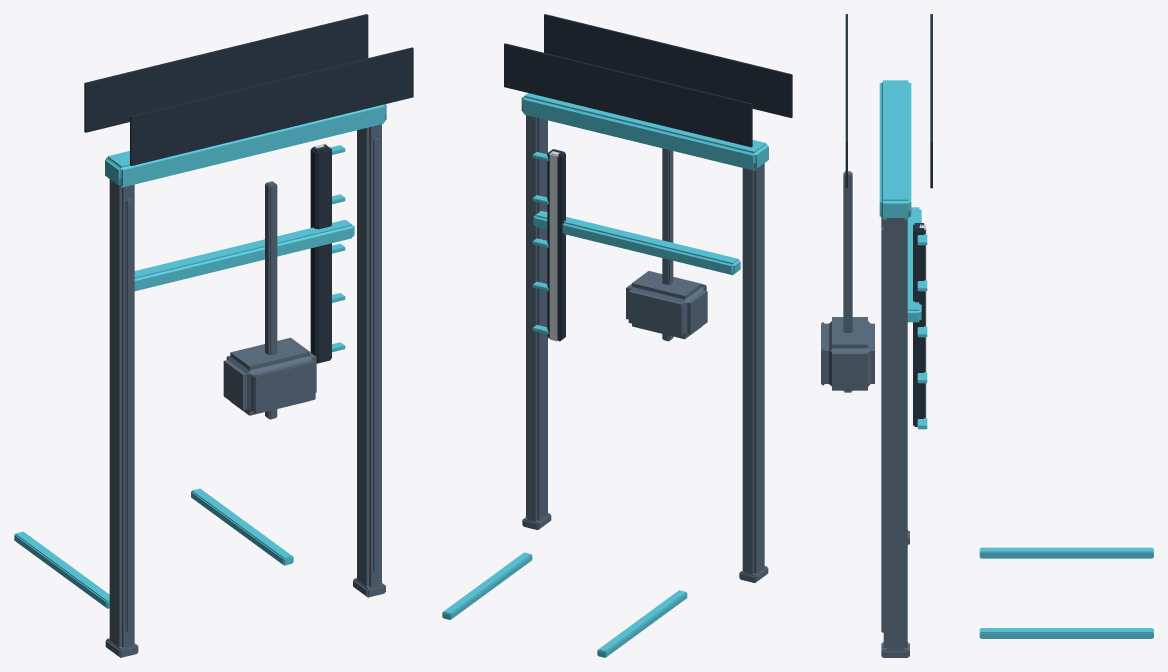
3 renders of one model, left to right at view 1: azimuth 30°, elevation 25°; view 2: azimuth 150°, elevation 25°; view 3: azimuth 270°, elevation 25°, orthographic. The views are drawn at different scales.
Visible parts, largest first — view 1: Audience progress backing, Front progress backing, Upright -0.42, Upright 0.42, RigBrace, Counterweight, GripTrack, GripHandle, CounterweightGuide, Right stance rail, Left stance rail; view 2: Front progress backing, Audience progress backing, Upright -0.42, Upright 0.42, RigBrace, Counterweight, GripHandle, GripTrack, GripRemaining, CounterweightGuide, Left stance rail, Right stance rail; view 3: Upright 0.42, RigBrace, Counterweight, GripTrack, Left stance rail, Right stance rail, CounterweightGuide, GripHandle, Audience progress backing, Front progress backing.
Part boxes in pixels (box(x1,y1,x2,y2)): Audience progress backing: box(130, 47, 413, 165); Front progress backing: box(84, 14, 368, 132); Upright -0.42: box(105, 178, 138, 657); Upright 0.42: box(353, 114, 385, 597); RigBrace: box(105, 104, 386, 187); Counterweight: box(223, 337, 316, 415); GripTrack: box(310, 144, 331, 363); GripHandle: box(134, 219, 354, 291); CounterweightGuide: box(265, 181, 277, 419); Right stance rail: box(191, 488, 293, 565); Left stance rail: box(14, 531, 109, 608); Front progress backing: box(504, 43, 752, 147); Audience progress backing: box(544, 14, 792, 117); Upright -0.42: box(739, 163, 768, 582); Upright 0.42: box(522, 106, 551, 529); RigBrace: box(521, 93, 768, 170); Counterweight: box(626, 271, 707, 339); GripHandle: box(533, 211, 740, 275); GripTrack: box(547, 149, 565, 341); GripRemaining: box(549, 151, 559, 341); CounterweightGuide: box(662, 148, 673, 341); Left stance rail: box(597, 590, 687, 657); Right stance rail: box(442, 552, 532, 619); Upright 0.42: box(881, 211, 909, 657); RigBrace: box(879, 80, 911, 219); Counterweight: box(821, 317, 874, 390); GripTrack: box(913, 223, 925, 426); Left stance rail: box(979, 547, 1153, 558); Right stance rail: box(979, 628, 1153, 638); CounterweightGuide: box(843, 171, 852, 392); GripHandle: box(907, 207, 921, 322); Audience progress backing: box(845, 14, 847, 188); Front progress backing: box(930, 14, 932, 188).
Size of the model in its own units: 0.96 by 1.81 by 1.05.
